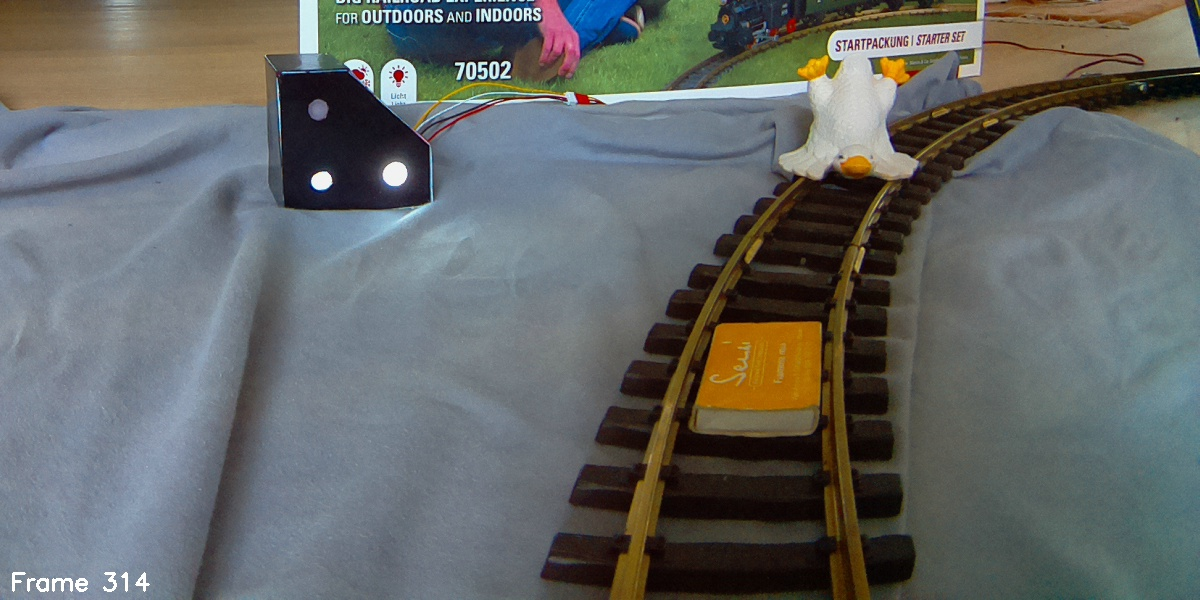Halt: (263, 51, 432, 212)
